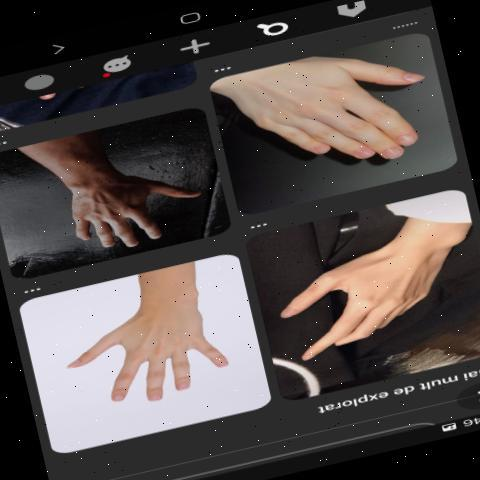Hands: (214, 56, 438, 169), (262, 240, 463, 360), (12, 133, 203, 248), (56, 302, 244, 416)
